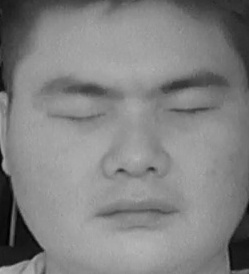blink: (49, 97, 108, 135), (167, 94, 216, 128)
mouth: (99, 190, 185, 233)
